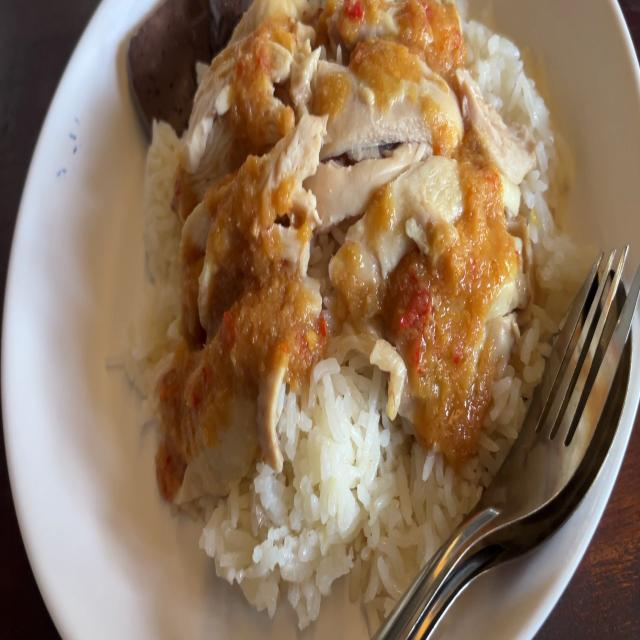boiled_chicken: (182, 0, 494, 445)
boiled_chicken_blood_jelly: (125, 0, 226, 129)
chicken_rice: (117, 0, 559, 594)
